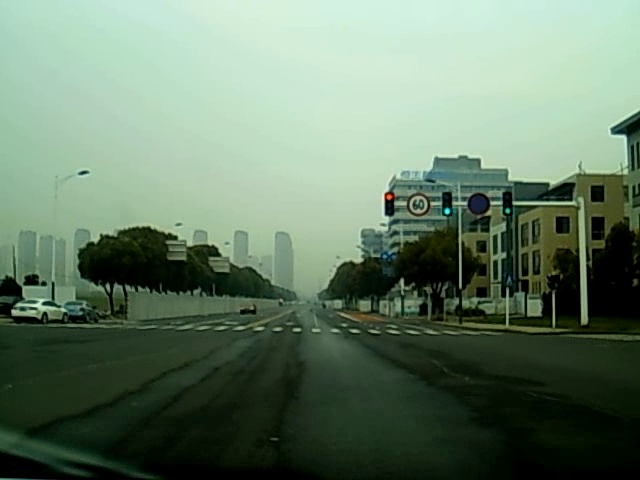Traffic_Light_go: (442, 195, 452, 219), (502, 194, 512, 218)
Traffic_Light_stop: (384, 192, 394, 217)
